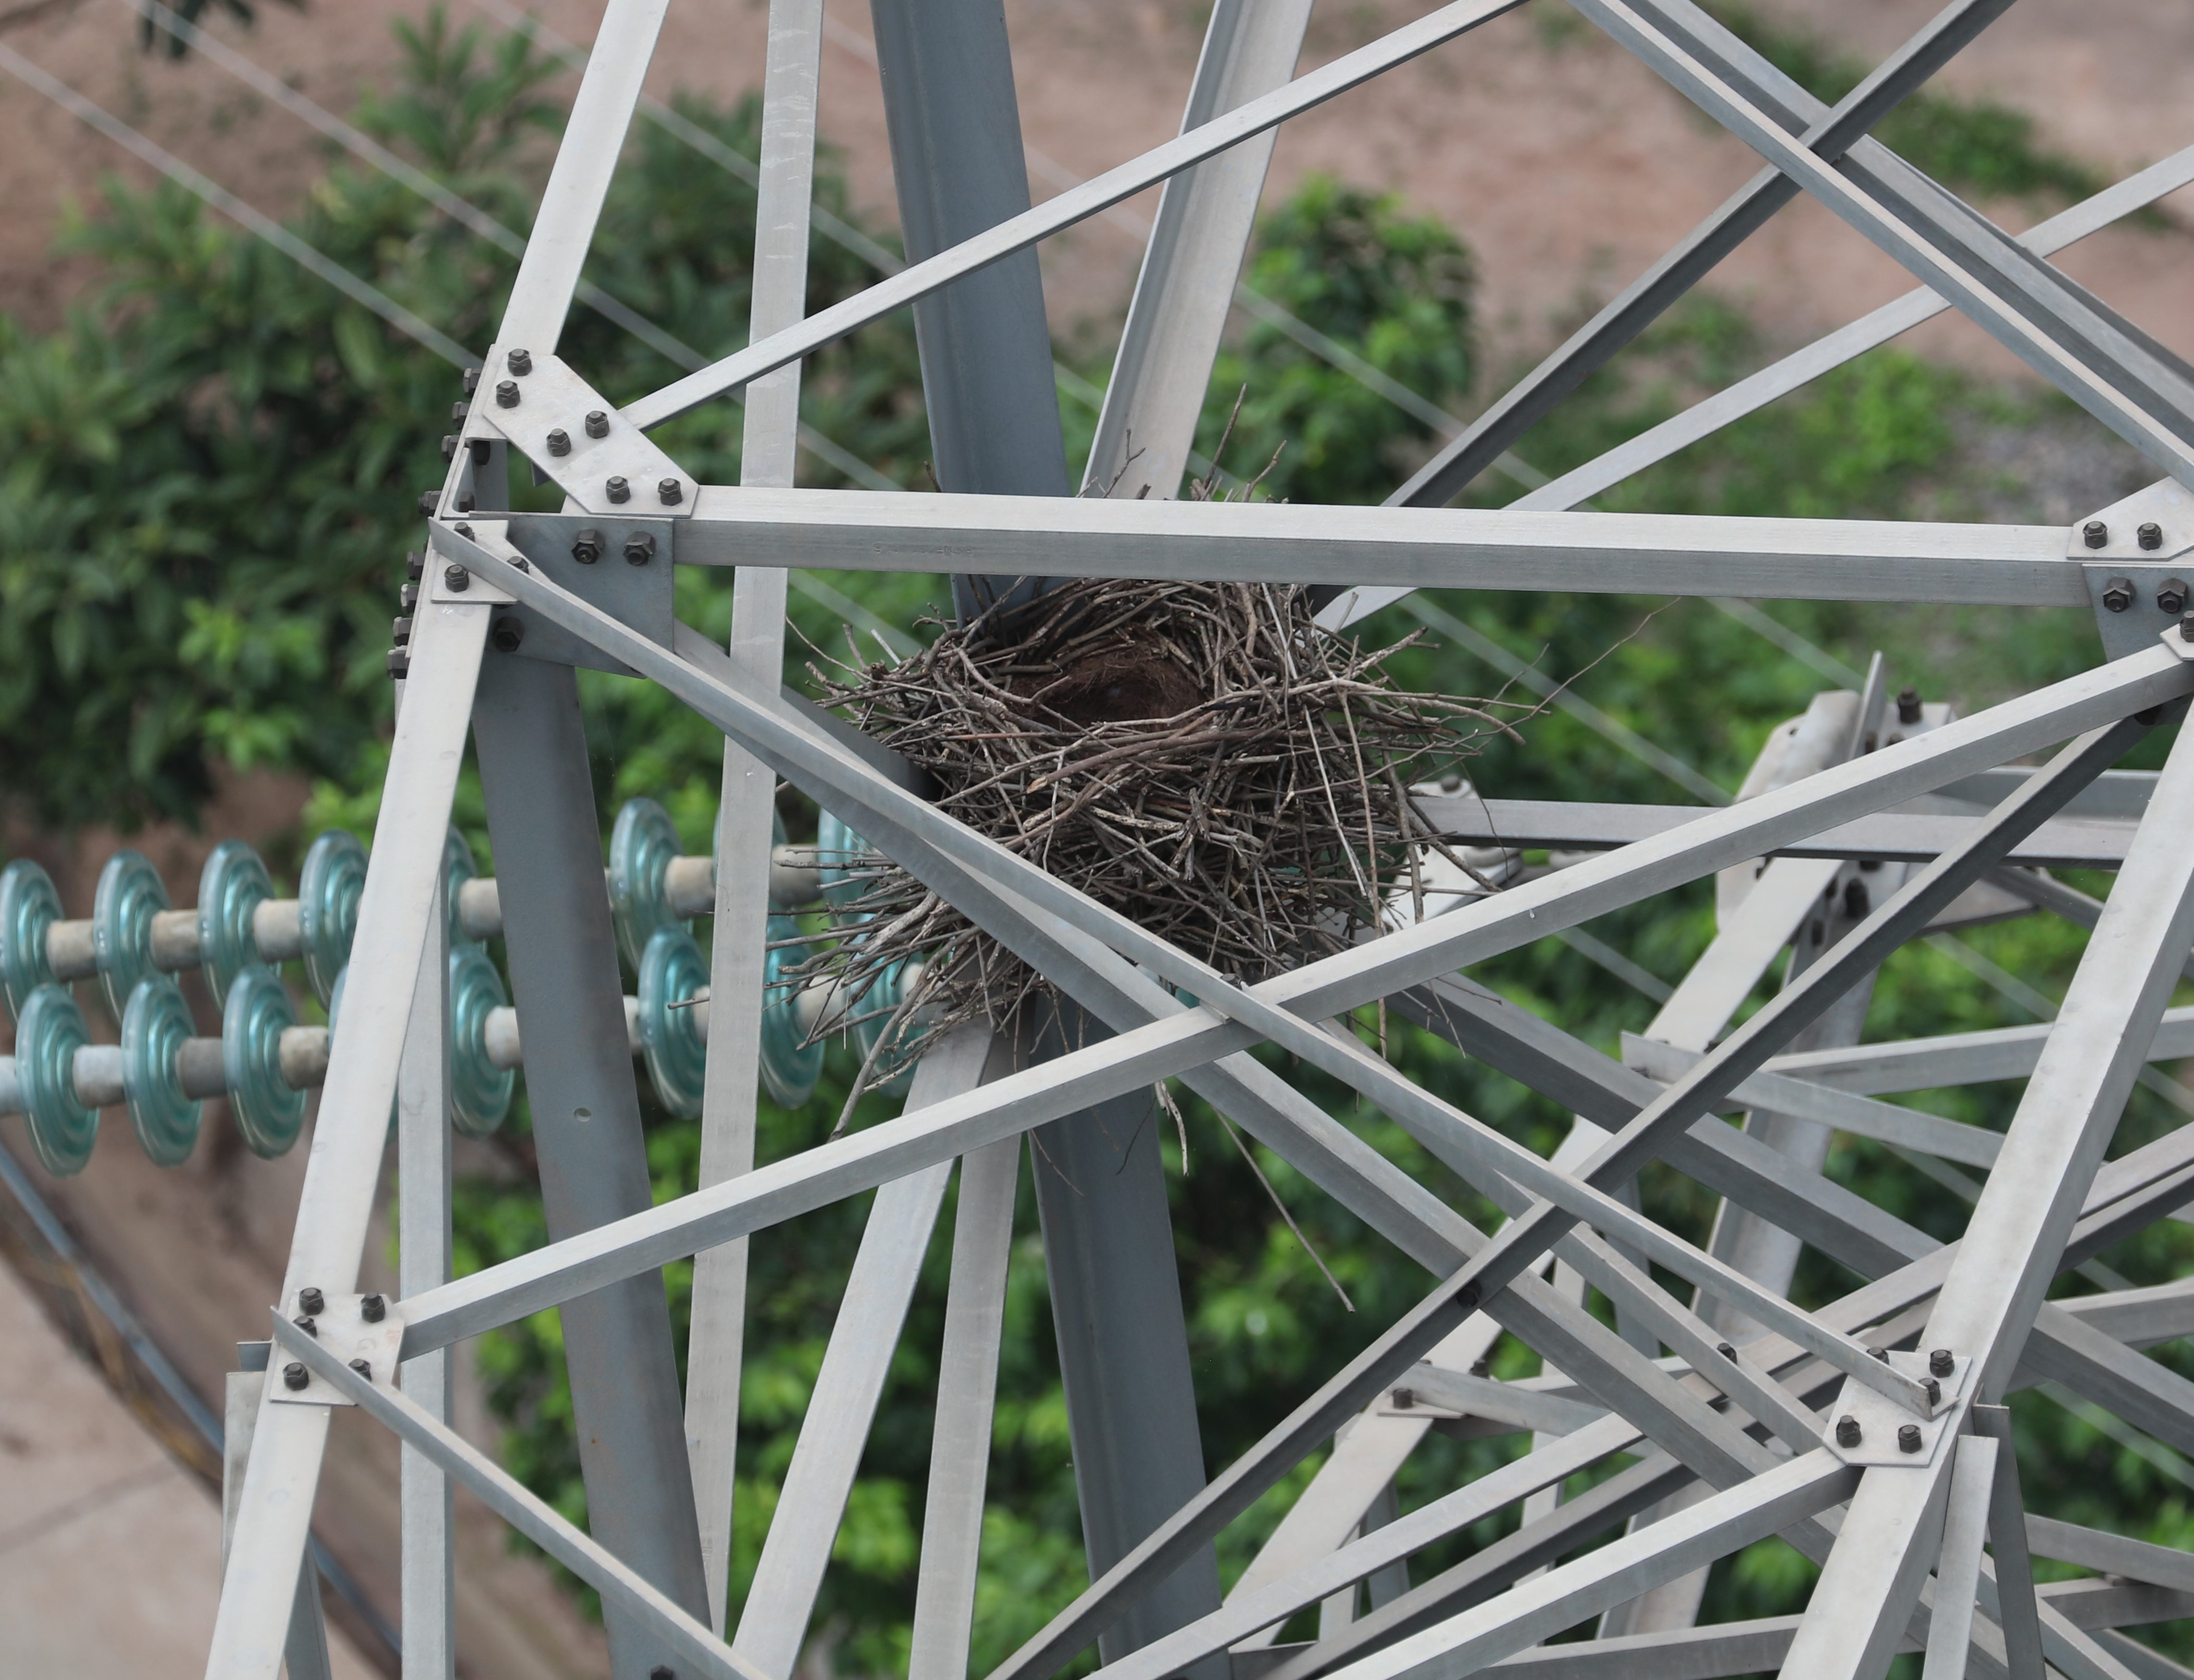niaowo: (821, 498, 1467, 1045)
